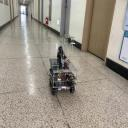cart: (49, 60, 78, 96)
